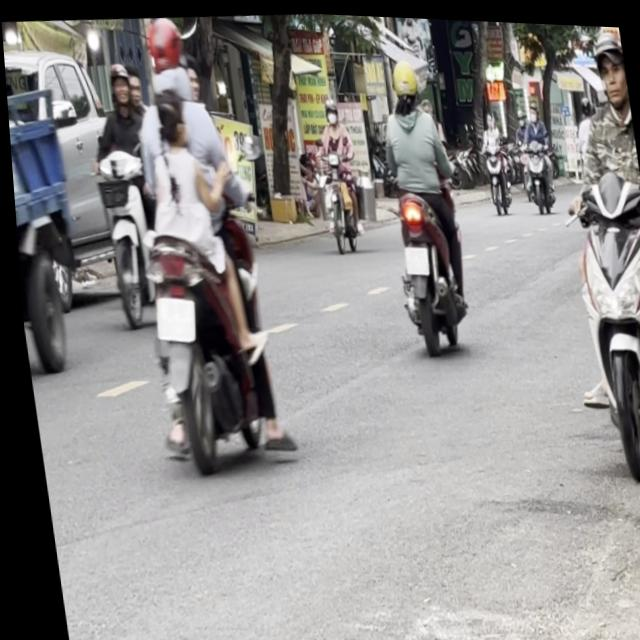helmet: (139, 14, 189, 82), (587, 21, 628, 100), (148, 84, 191, 152), (386, 54, 419, 106), (102, 57, 132, 111), (320, 94, 338, 125)
licenseplate: (104, 10, 286, 475), (533, 19, 640, 476), (366, 51, 475, 354), (75, 54, 175, 326), (305, 90, 367, 251)
nohelmet: (148, 293, 194, 342), (398, 239, 425, 270)
